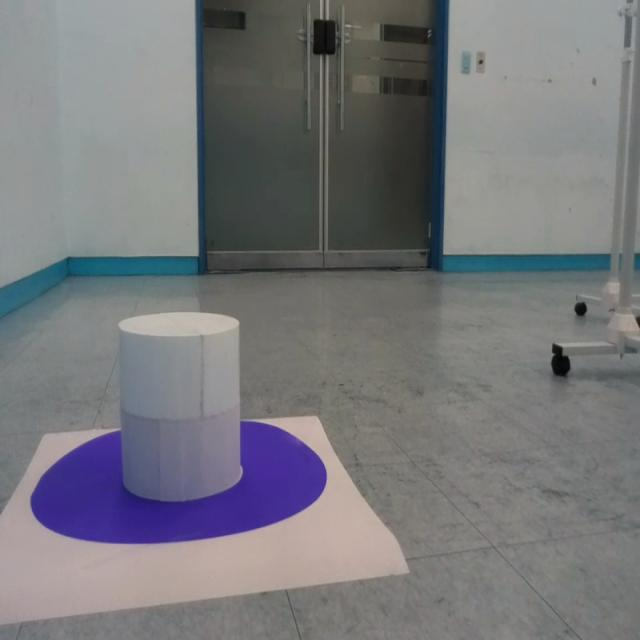cylinder: (117, 310, 242, 501)
